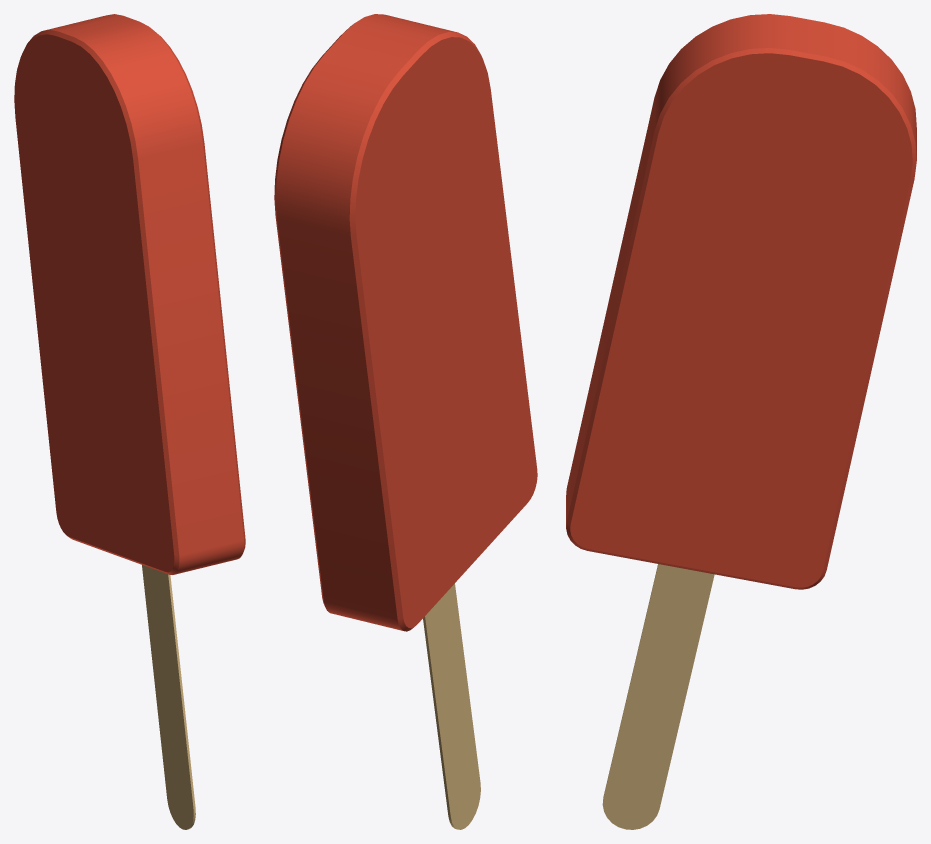
3 renders of one model, left to right at view 1: azimuth 30°, elevation 25°; view 2: azimuth 150°, elevation 25°; view 3: azimuth 270°, elevation 25°, orthographic. The views are drawn at different scales.
Visible parts, largest first — view 1: ice_pop; view 2: ice_pop; view 3: ice_pop.
Boxes of the visible parts, x1,y1,x2,y2 form: ice_pop: [14, 14, 245, 829]; ice_pop: [274, 14, 537, 829]; ice_pop: [566, 14, 916, 829].
Size of the model in its own units: 0.00996 by 0.0996 by 0.0396.
